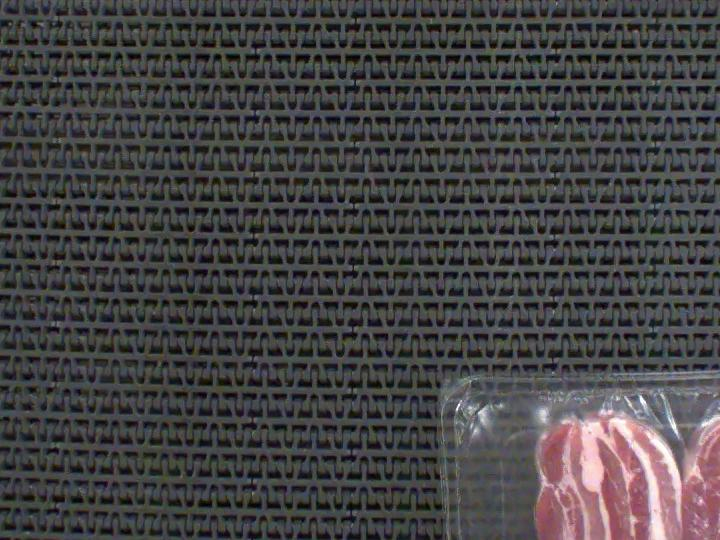unsealed: (450, 382, 720, 540)
